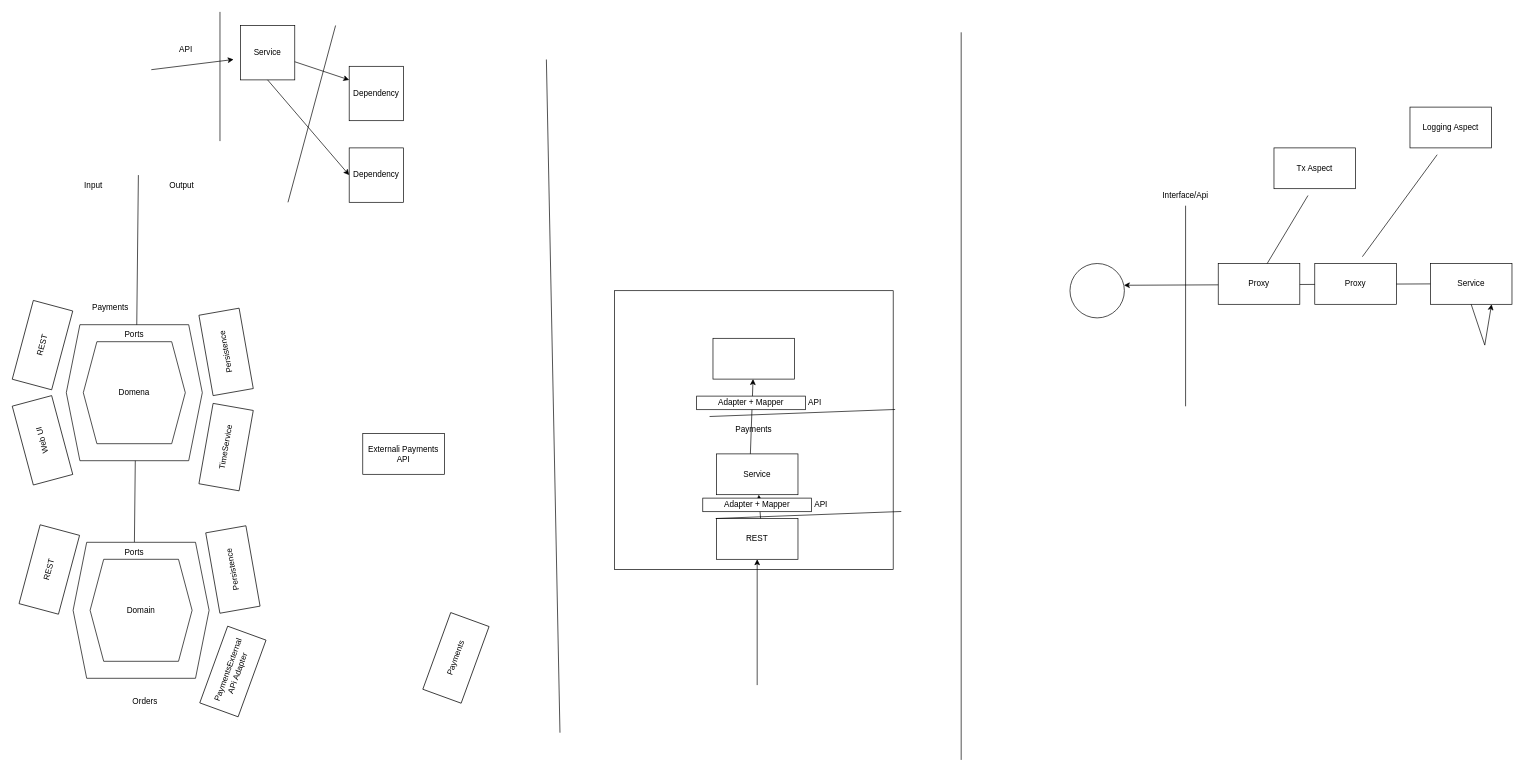
Some shapes in this 1524 by 772 pixel diagram are drawn without their labels. Each missing label, with the centre of its shape:
"Client" belongs at (1096,290).
"Persitence" belongs at (753,358).
